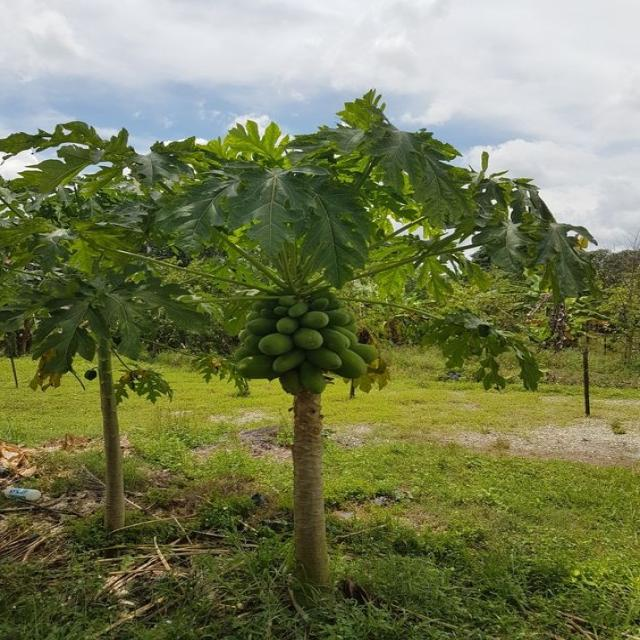Papaya-Tree: (147, 121, 516, 590), (0, 166, 230, 542)
